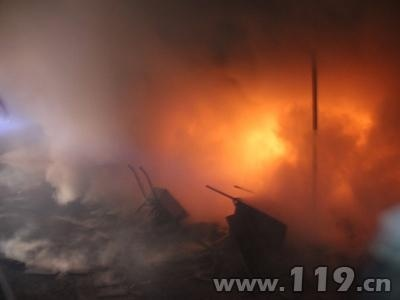fire: (233, 109, 291, 177)
